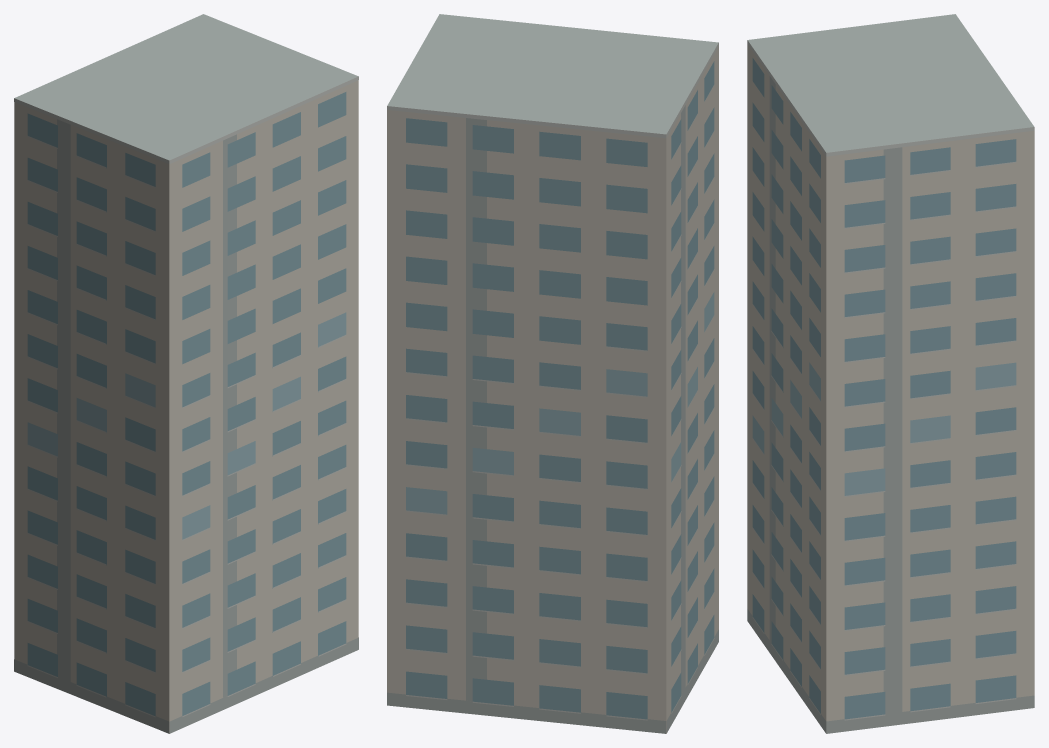
File: residential-9040db49-5621-4583-97d7-ecf5cf2b1520.glb
3 views of the same model, side by side, from view 1: azimuth 30°, elevation 25°; view 2: azimuth 150°, elevation 25°; view 3: azimuth 270°, elevation 25° (orthographic). The views are drawn at different scales.
Visible parts, largest first — view 1: residential-9040db49-5621-4583-97d7-ecf5cf2b1520.tmp; view 2: residential-9040db49-5621-4583-97d7-ecf5cf2b1520.tmp; view 3: residential-9040db49-5621-4583-97d7-ecf5cf2b1520.tmp.
Boxes of the visible parts, x1,y1,x2,y2 form: residential-9040db49-5621-4583-97d7-ecf5cf2b1520.tmp: [14, 14, 358, 733]; residential-9040db49-5621-4583-97d7-ecf5cf2b1520.tmp: [387, 14, 718, 733]; residential-9040db49-5621-4583-97d7-ecf5cf2b1520.tmp: [747, 14, 1034, 733].
Bounding box in the file's own units: 18.97 × 37 × 16.58.
